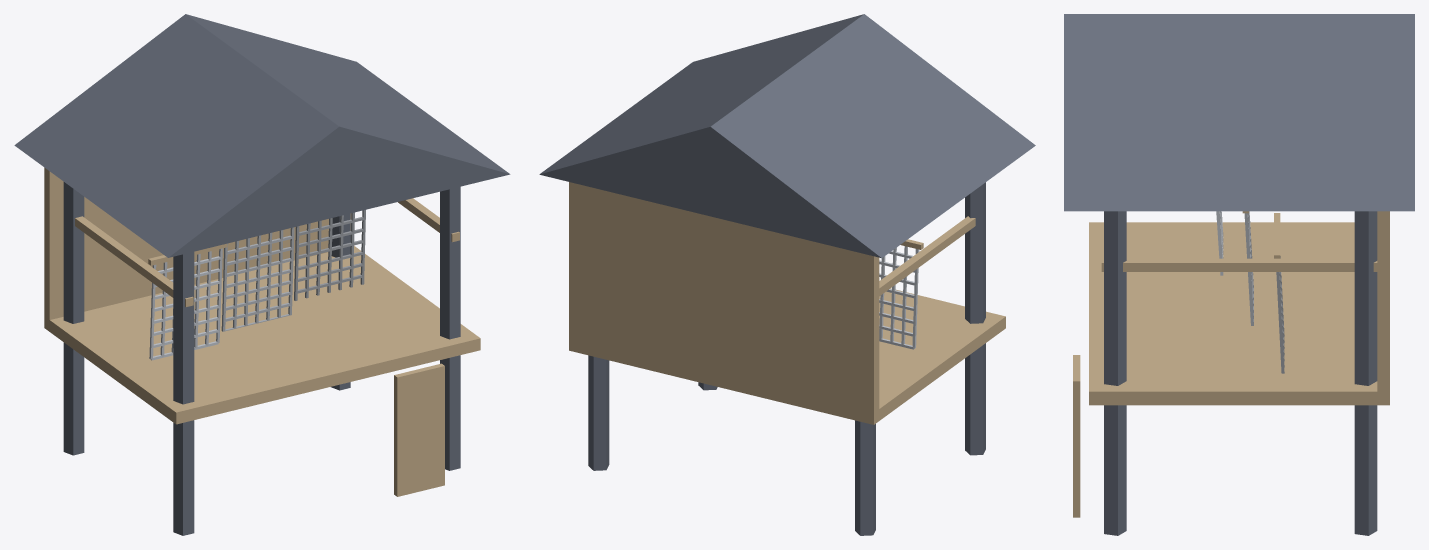
Rendered from net_loft.glb.
3 renders of one model, left to right at view 1: azimuth 30°, elevation 25°; view 2: azimuth 150°, elevation 25°; view 3: azimuth 270°, elevation 25°, orthographic. The views are drawn at different scales.
Parts seen in each view (by area): view 1: slate, driftwood, silverfog_d10, silverfog_d20, silverfog; view 2: slate, driftwood, silverfog; view 3: slate, driftwood, silverfog_d20, silverfog_d10.
Boxes of the visible parts, bbox=[...] form: slate: bbox=[14, 14, 510, 535]; driftwood: bbox=[44, 167, 480, 496]; silverfog_d10: bbox=[221, 227, 294, 331]; silverfog_d20: bbox=[294, 210, 365, 300]; silverfog: bbox=[149, 248, 222, 360]; slate: bbox=[539, 14, 1035, 535]; driftwood: bbox=[569, 182, 1005, 424]; silverfog: bbox=[879, 246, 919, 349]; slate: bbox=[1064, 14, 1414, 535]; driftwood: bbox=[1073, 211, 1389, 517]; silverfog_d20: bbox=[1276, 256, 1284, 373]; silverfog_d10: bbox=[1244, 211, 1253, 325].
Bounding box in the file's own units: 3.6 × 3.9 × 2.8.
